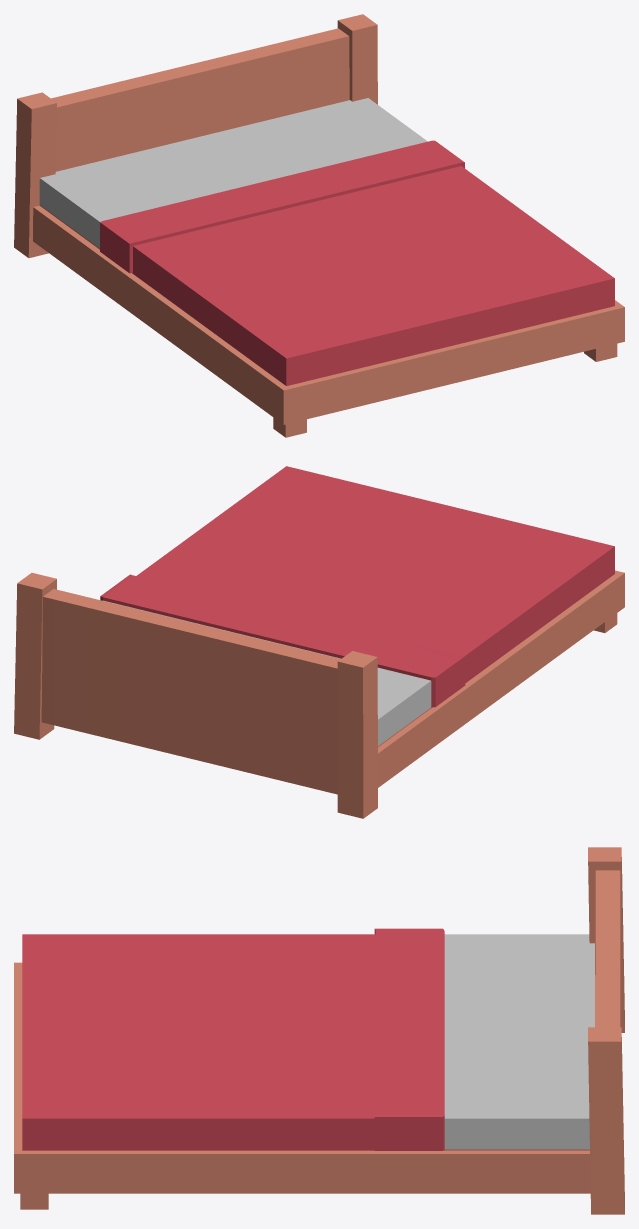
The model's file is bedColor.fbx.
3 renders of one model, top to bottom at view 1: azimuth 30°, elevation 25°; view 2: azimuth 150°, elevation 25°; view 3: azimuth 270°, elevation 25°, orthographic. The views are drawn at different scales.
Parts seen in each view (by area): view 1: MasterBed; view 2: MasterBed; view 3: MasterBed.
Part boxes in pixels (left/top/right/bottom): MasterBed: left=14, top=14, right=624, bottom=437; MasterBed: left=14, top=466, right=624, bottom=818; MasterBed: left=14, top=847, right=624, bottom=1214.
Bounding box in the file's own units: 10.74 × 4.4 × 14.15.
Materials: 1 (1 with a texture image).
